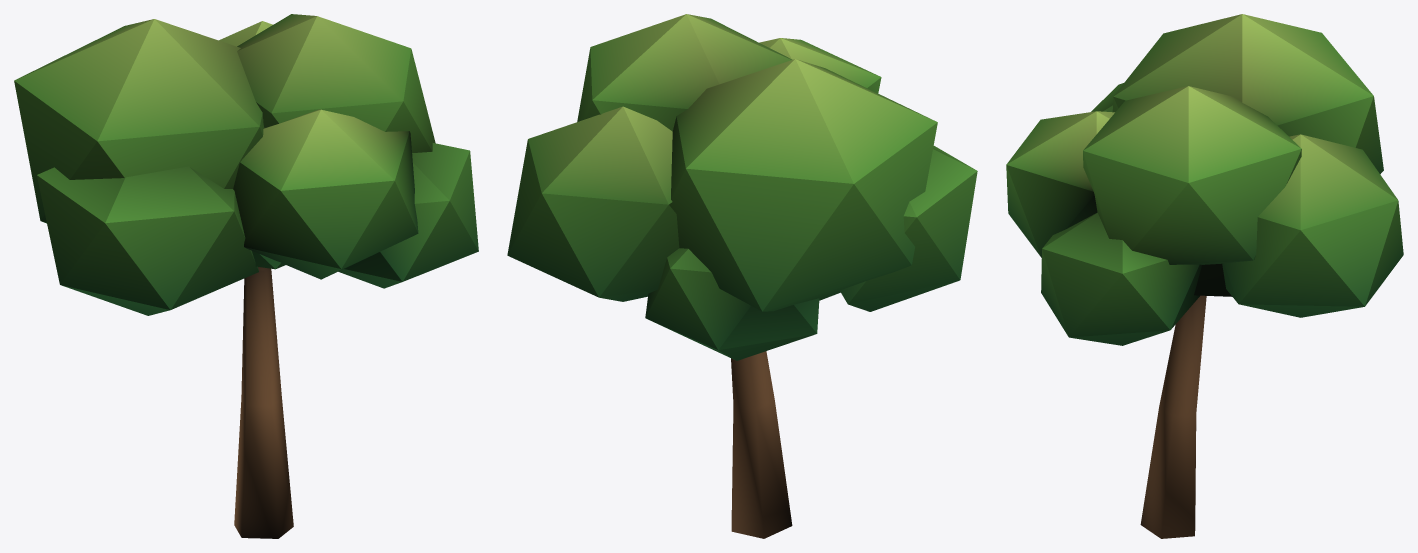
Rendered from tree-standing-c-far.glb.
3 renders of one model, left to right at view 1: azimuth 30°, elevation 25°; view 2: azimuth 150°, elevation 25°; view 3: azimuth 270°, elevation 25°, orthographic. The views are drawn at different scales.
Visible parts, largest first — view 1: 1_leaves.005, 0_trunk.005; view 2: 1_leaves.005, 0_trunk.005; view 3: 1_leaves.005, 0_trunk.005.
Part boxes in pixels (x1,y1,x2,y2): 1_leaves.005: [14, 14, 478, 315]; 0_trunk.005: [234, 267, 293, 538]; 1_leaves.005: [507, 14, 977, 360]; 0_trunk.005: [731, 351, 792, 538]; 1_leaves.005: [1006, 14, 1403, 345]; 0_trunk.005: [1140, 295, 1206, 538].
Bounding box in the file's own units: 5.02 × 6.32 × 4.73.
